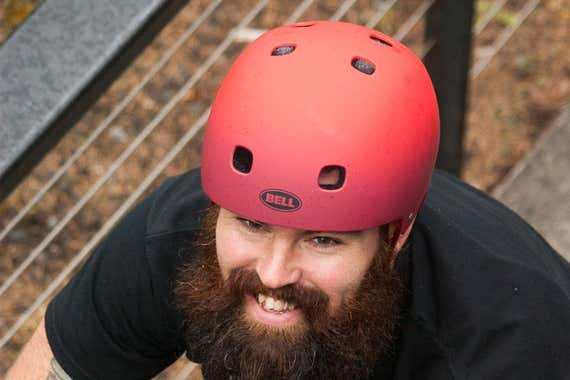helmet: (200, 20, 442, 358)
